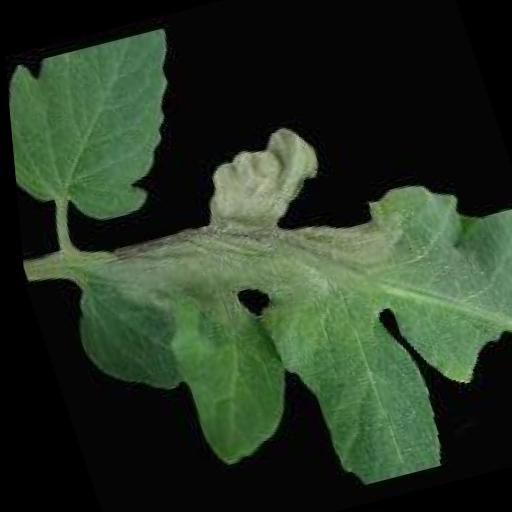Healthy: (2, 28, 219, 245)
Late Blight: (18, 76, 512, 512)
